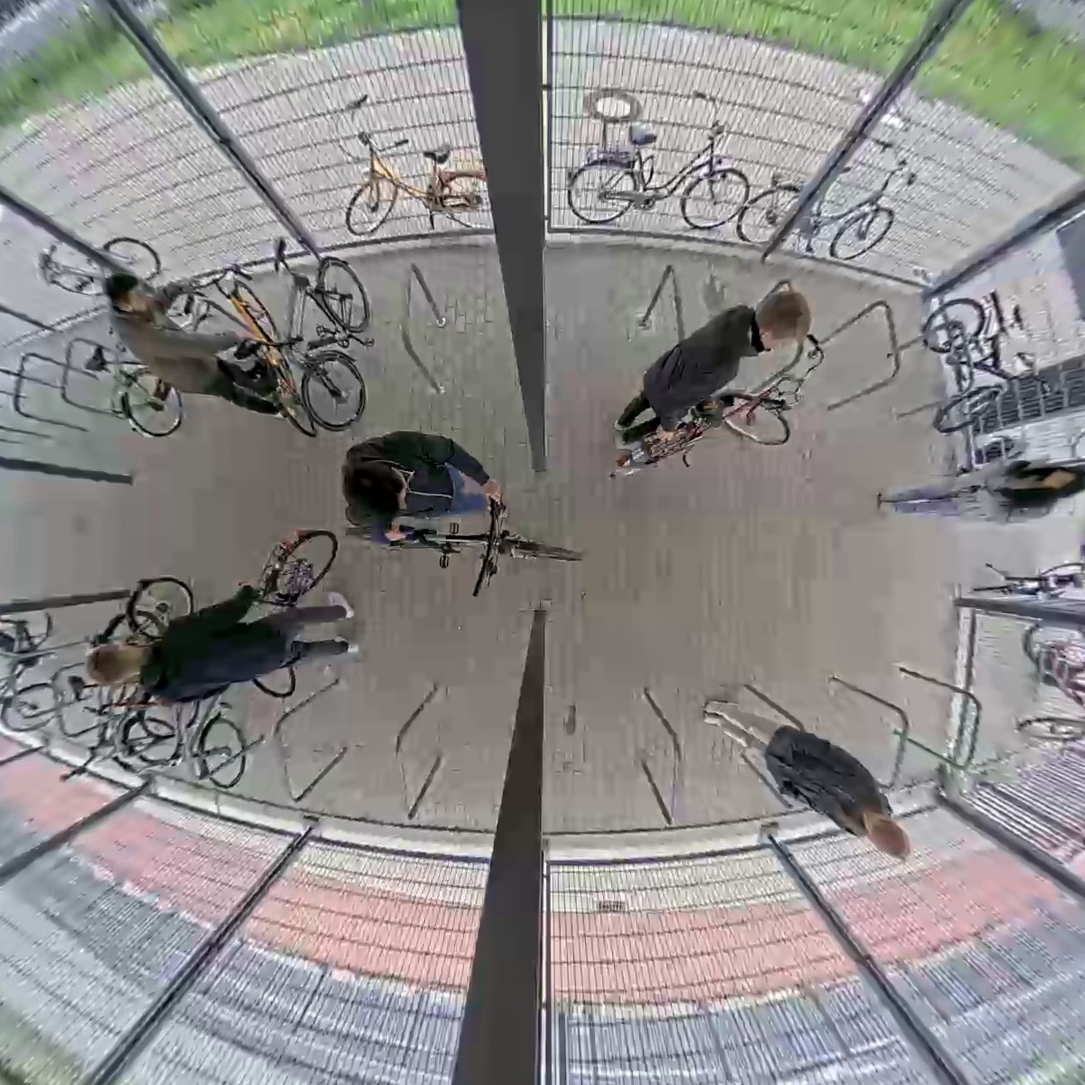bicylce: (271, 243, 379, 435), (610, 382, 797, 480), (220, 279, 316, 437), (76, 622, 172, 772), (349, 519, 585, 569), (924, 297, 1000, 448), (0, 585, 57, 741)
saddle: (698, 395, 734, 426), (227, 336, 258, 358), (268, 236, 287, 270), (86, 344, 103, 372), (67, 674, 82, 701), (1012, 305, 1023, 331)
